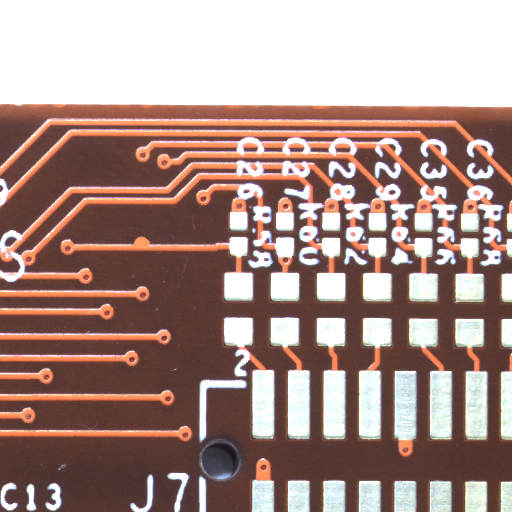Spur: (141, 240, 160, 251)
